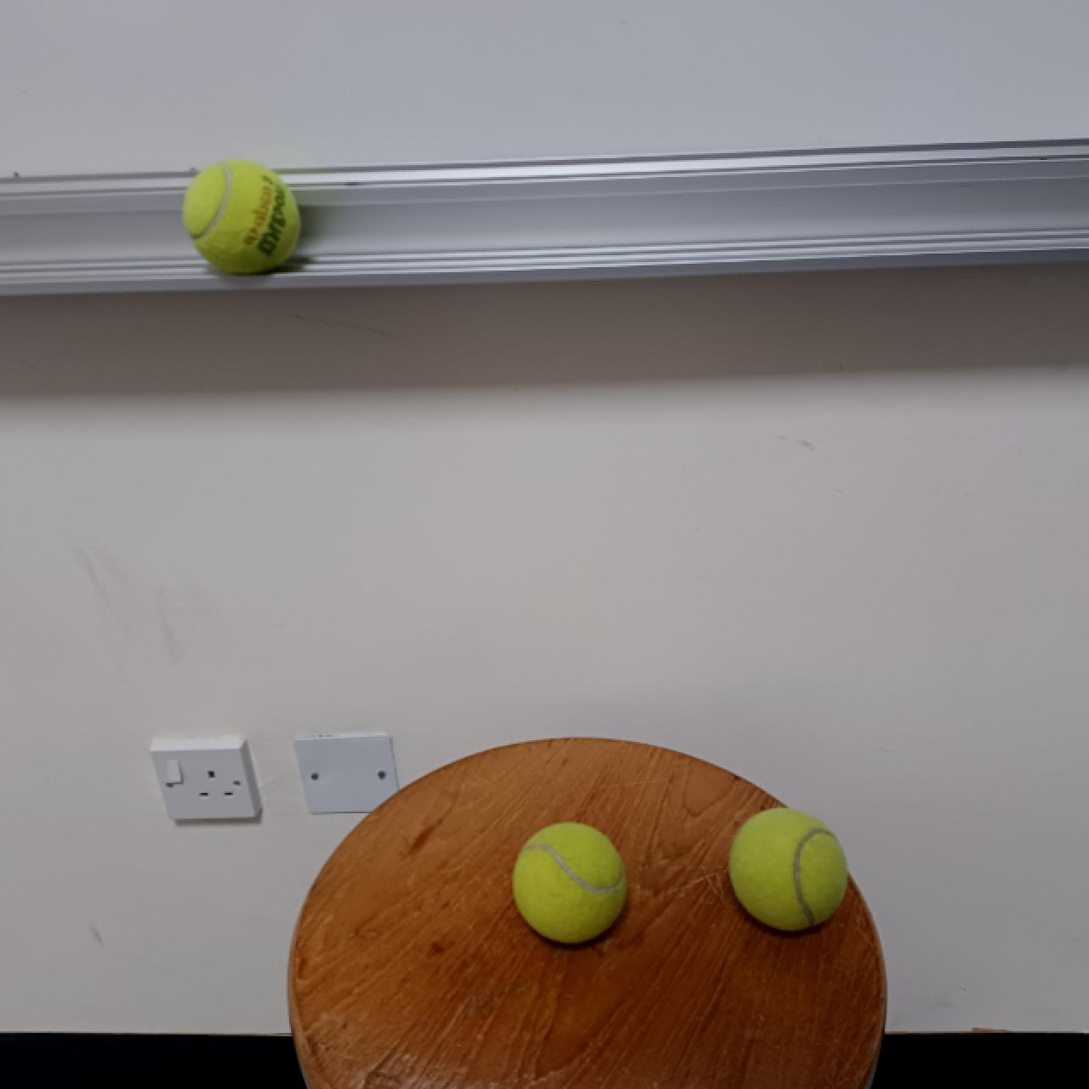tennis-ball: (729, 804, 846, 936), (513, 823, 625, 947), (184, 160, 300, 277)
